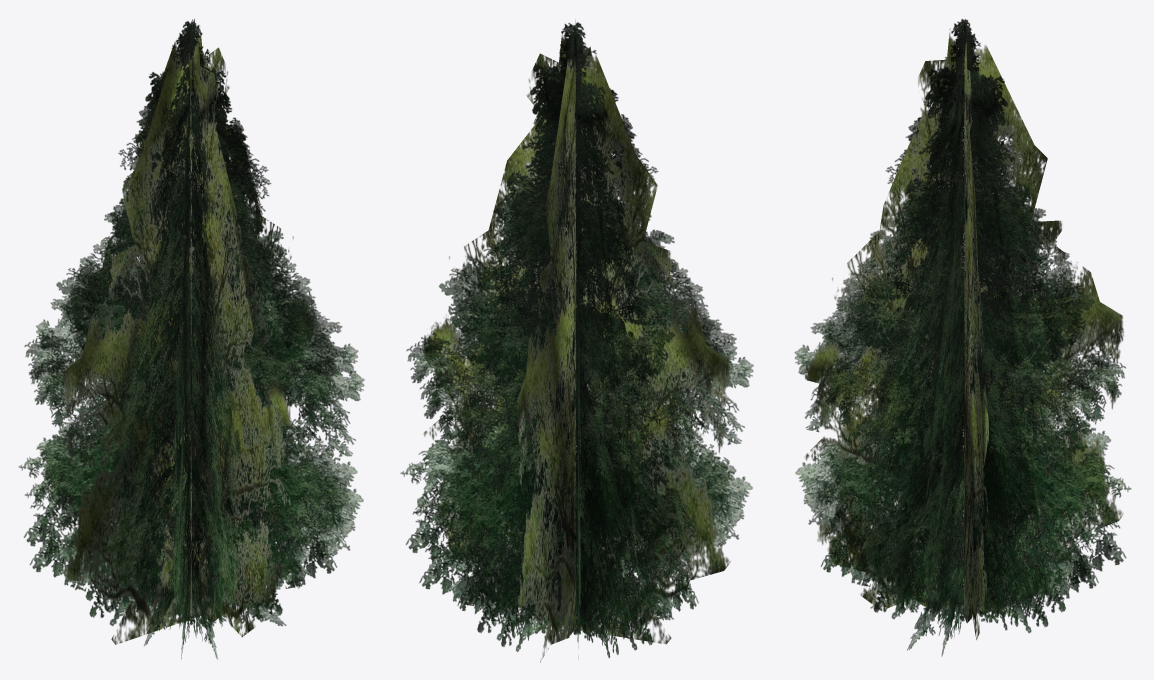
File: PINE_canopy.glb
The picture shows the model from 3 angles, left to right: view 1: azimuth 30°, elevation 25°; view 2: azimuth 150°, elevation 25°; view 3: azimuth 270°, elevation 25°; orthographic projection.
Parts seen in each view (by area): view 1: Leaf plane, Leaf plane.001, Leaf plane.003, Leaf plane.002; view 2: Leaf plane, Leaf plane.003, Leaf plane.002, Leaf plane.001; view 3: Leaf plane.002, Leaf plane.001, Leaf plane, Leaf plane.003.
Part boxes in pixels (x1,y1,x2,y2): Leaf plane: (63, 31, 314, 644); Leaf plane.001: (36, 19, 341, 645); Leaf plane.003: (25, 33, 358, 659); Leaf plane.002: (18, 32, 364, 658); Leaf plane: (423, 29, 730, 662); Leaf plane.003: (447, 36, 702, 651); Leaf plane.002: (414, 35, 736, 657); Leaf plane.001: (400, 20, 753, 659); Leaf plane.002: (823, 31, 1102, 650); Leaf plane.001: (816, 19, 1110, 630); Leaf plane: (804, 29, 1123, 639); Leaf plane.003: (794, 31, 1131, 656).
Size of the model in its own units: 0.0633 by 0.1219 by 0.0643.
Materials: 4 (4 with a texture image).
